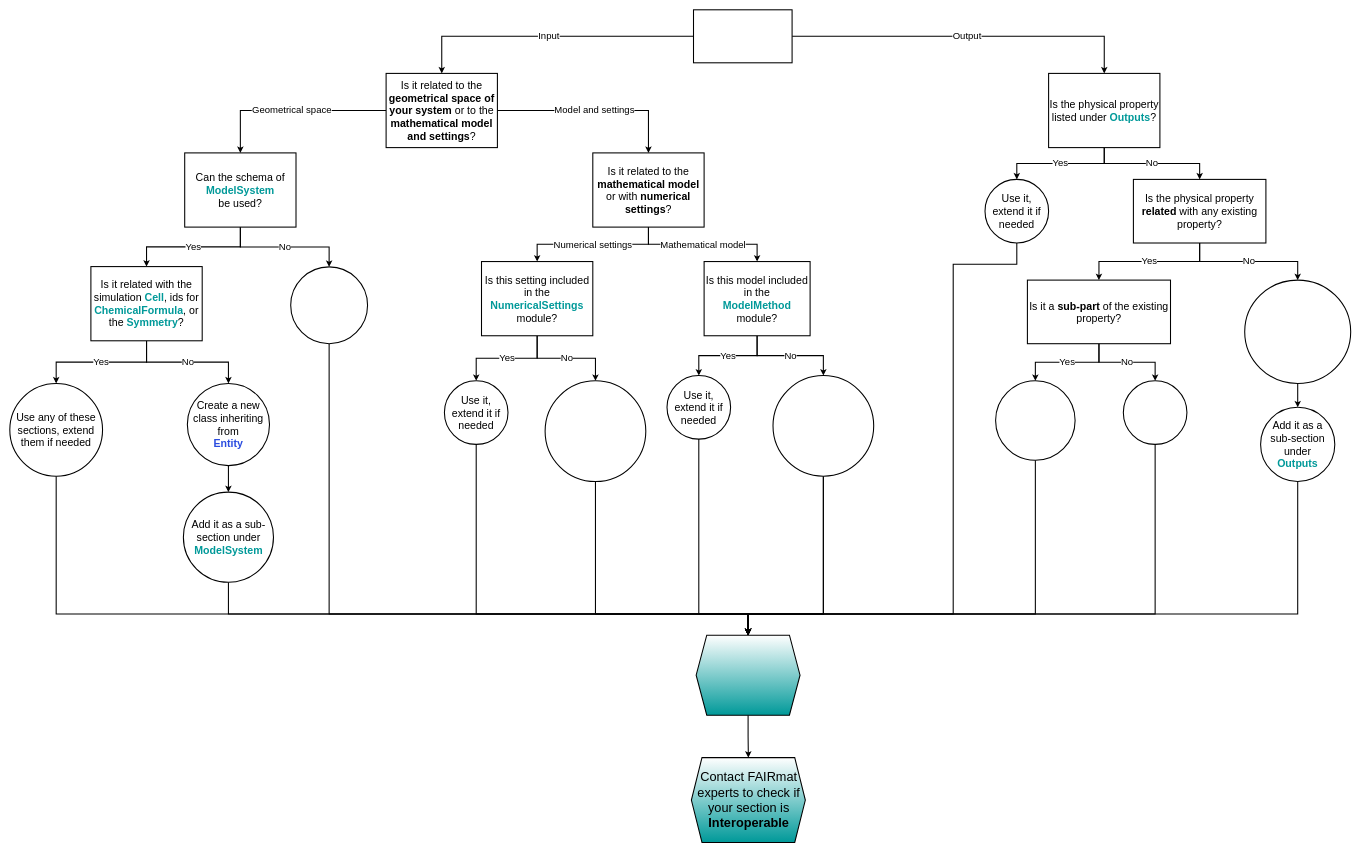
The diagram is 1360 pixels wide and 852 high, and some of its shapes have lost their labels. The shapes that lost their labels are listed below. From the top down, each one's box as (x1, y1, x2, y2) in pixels, then its label:
(693, 9, 792, 63): Do you need to add an input or an output ?
(290, 266, 368, 344): Inherit from System and extend
(1244, 279, 1351, 384): Create a new class inheriting from PhysicalProperty
(544, 380, 646, 482): Inherit from NumericalSettings and define your section
(772, 375, 874, 476): Inherit from ModelMethod and define your section
(995, 380, 1075, 461): Add a sub-section under the existing property
(1123, 380, 1187, 445): Inherit and extend
(695, 634, 800, 716): Document your new class and methods
